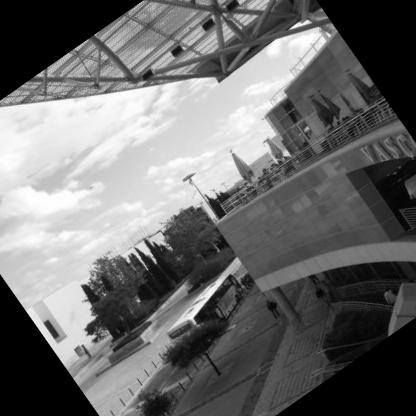bus: (158, 266, 265, 362)
